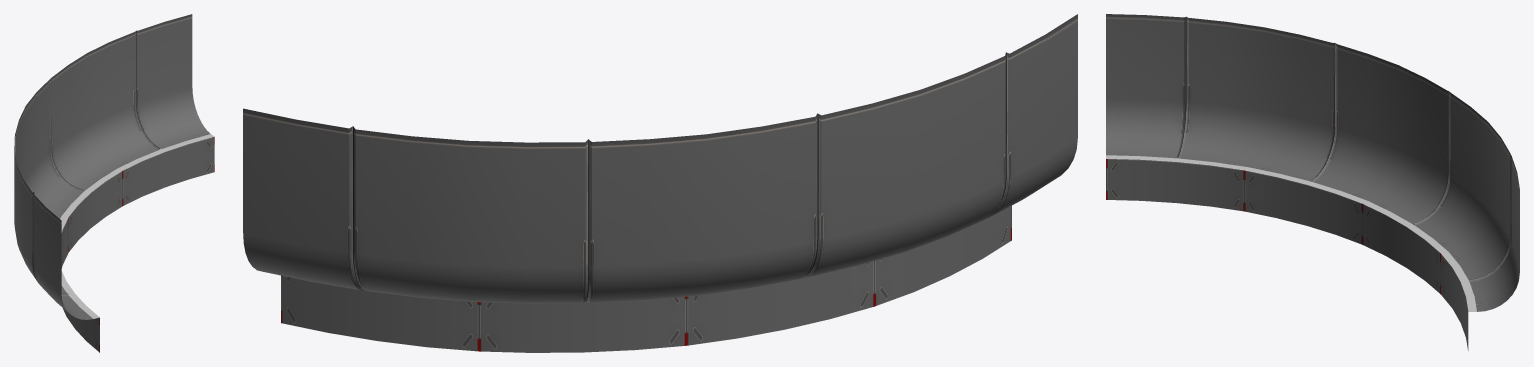
The model's file is TopPlastic_Corner_Round_Outer.gltf.
3 views of the same model, side by side, from view 1: azimuth 30°, elevation 25°; view 2: azimuth 150°, elevation 25°; view 3: azimuth 270°, elevation 25° (orthographic). The views are drawn at different scales.
Parts seen in each view (by area): view 1: TopPlastic_Corner_Round_Outer; view 2: TopPlastic_Corner_Round_Outer; view 3: TopPlastic_Corner_Round_Outer.
Part boxes in pixels (box(x1,y1,x2,y2)): TopPlastic_Corner_Round_Outer: box(14, 14, 214, 352); TopPlastic_Corner_Round_Outer: box(243, 14, 1077, 352); TopPlastic_Corner_Round_Outer: box(1106, 14, 1519, 350).
Size of the model in its own units: 4.57 by 2.02 by 4.57.
Materials: 3 (3 with a texture image).
